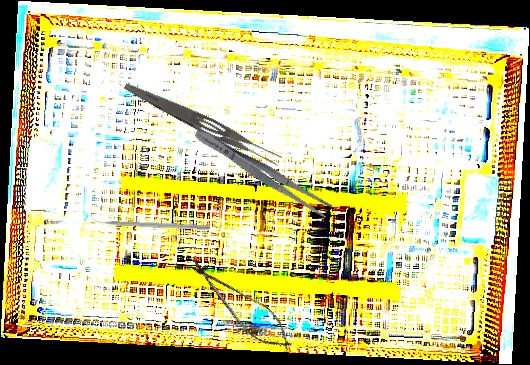Chopper: (87, 212, 211, 231)
Dressing Forceps: (120, 79, 284, 170), (191, 123, 334, 221)
Micro Scissor: (179, 250, 303, 362)
